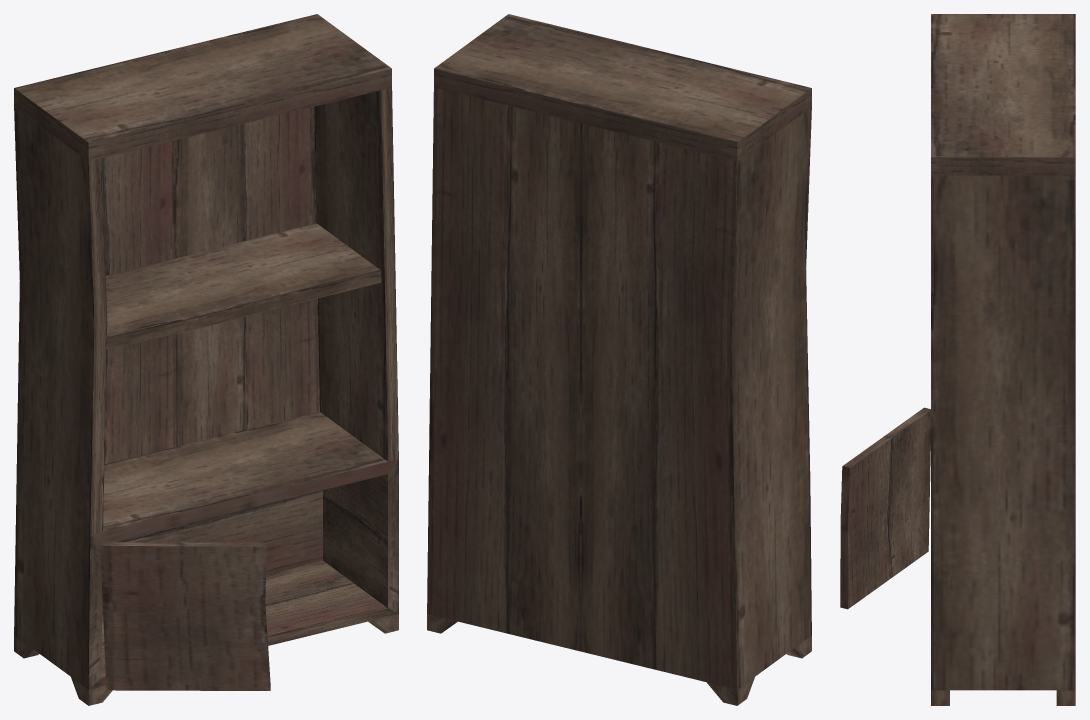
File: cabinet_shanty.fbx
3 renders of one model, left to right at view 1: azimuth 30°, elevation 25°; view 2: azimuth 150°, elevation 25°; view 3: azimuth 270°, elevation 25°, orthographic. The views are drawn at different scales.
Parts seen in each view (by area): view 1: cabinet_base, cabinet_crown, cabinet_base1, cabinet_shelf_2; view 2: cabinet_base, cabinet_crown, cabinet_foot_4; view 3: cabinet_base, cabinet_crown, cabinet_base1.
Boxes of the visible parts, x1,y1,x2,y2 form: cabinet_base: (14,87,398,689); cabinet_crown: (14,14,391,161); cabinet_base1: (100,542,270,690); cabinet_shelf_2: (105,223,381,349); cabinet_base: (427,87,811,689); cabinet_crown: (434,14,811,161); cabinet_foot_4: (707,677,754,705); cabinet_base: (931,175,1075,690); cabinet_crown: (931,14,1075,175); cabinet_base1: (840,407,930,609).
Bounding box in the file's own units: 500 × 867 × 339.
Materials: 1 (1 with a texture image).
